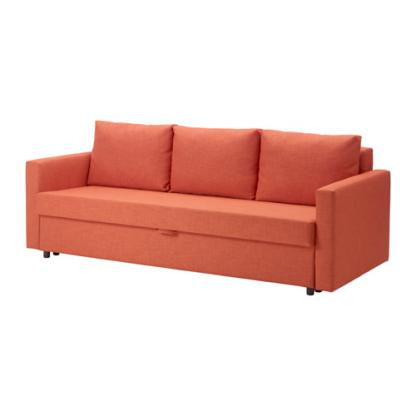Sofa: (21, 115, 394, 299)
